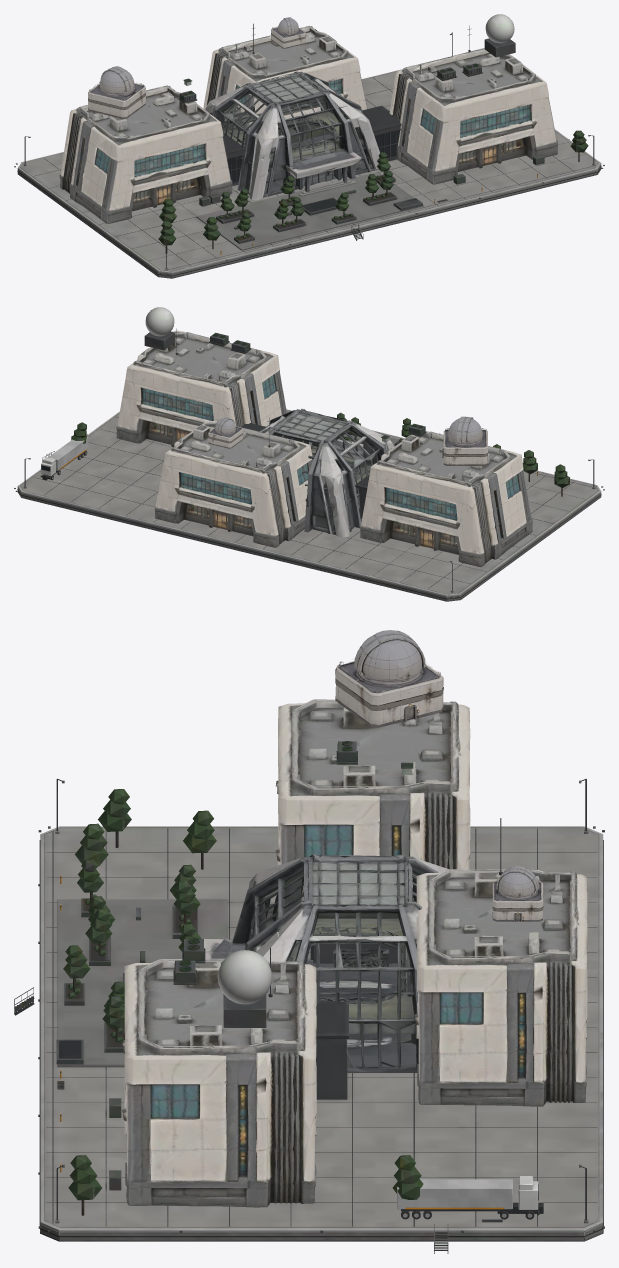
The model's file is university.lite.glb.
3 renders of one model, top to bottom at view 1: azimuth 30°, elevation 25°; view 2: azimuth 150°, elevation 25°; view 3: azimuth 270°, elevation 25°, orthographic. The views are drawn at different scales.
Parts seen in each view (by area): view 1: parts_colony-facetedWing, hull, parts_colony-atriumHall, parts_colony-obsDome; view 2: parts_colony-facetedWing, hull, parts_colony-atriumHall, parts_colony-obsDome, parts_yard-truck; view 3: hull, parts_colony-facetedWing, parts_colony-atriumHall, parts_colony-obsDome, parts_yard-truck.
Part boxes in pixels (x1,y1,x2,y2): parts_colony-facetedWing: (59,25,557,223); hull: (14,14,604,278); parts_colony-atriumHall: (205,71,379,200); parts_colony-obsDome: (88,17,305,118); parts_colony-facetedWing: (116,330,532,566); hull: (14,307,604,601); parts_colony-atriumHall: (259,408,393,537); parts_colony-obsDome: (208,416,487,465); parts_yard-truck: (40,437,88,480); hull: (14,741,604,1253); parts_colony-facetedWing: (122,699,587,1207); parts_colony-atriumHall: (204,854,448,1072); parts_colony-obsDome: (335,630,543,921); parts_yard-truck: (397,1176,543,1219).
Bounding box in the file's own units: 115 × 32.17 × 69.29.
5 materials, 5 textured.
